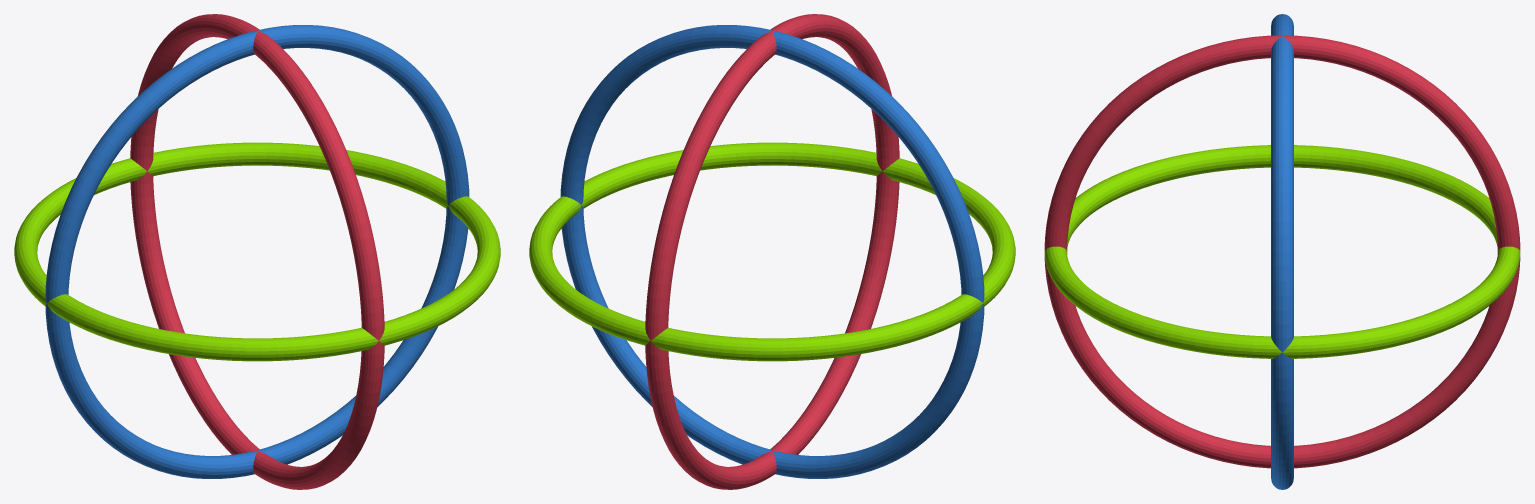
Rendered from rotation-arrows.fbx.
3 renders of one model, left to right at view 1: azimuth 30°, elevation 25°; view 2: azimuth 150°, elevation 25°; view 3: azimuth 270°, elevation 25°, orthographic. The views are drawn at different scales.
Visible parts, largest first — view 1: Torus.002, Torus.001, Torus; view 2: Torus.002, Torus.001, Torus; view 3: Torus.001, Torus, Torus.002.
Boxes of the visible parts, x1,y1,x2,y2 form: Torus.002: (45,25,469,478); Torus.001: (130,14,384,489); Torus: (14,142,500,361); Torus.002: (560,25,984,478); Torus.001: (645,14,899,489); Torus: (529,142,1015,361); Torus.001: (1044,35,1520,468); Torus: (1044,145,1520,358); Torus.002: (1271,14,1293,489).
Bounding box in the file's own units: 1050 × 1050 × 1050.
